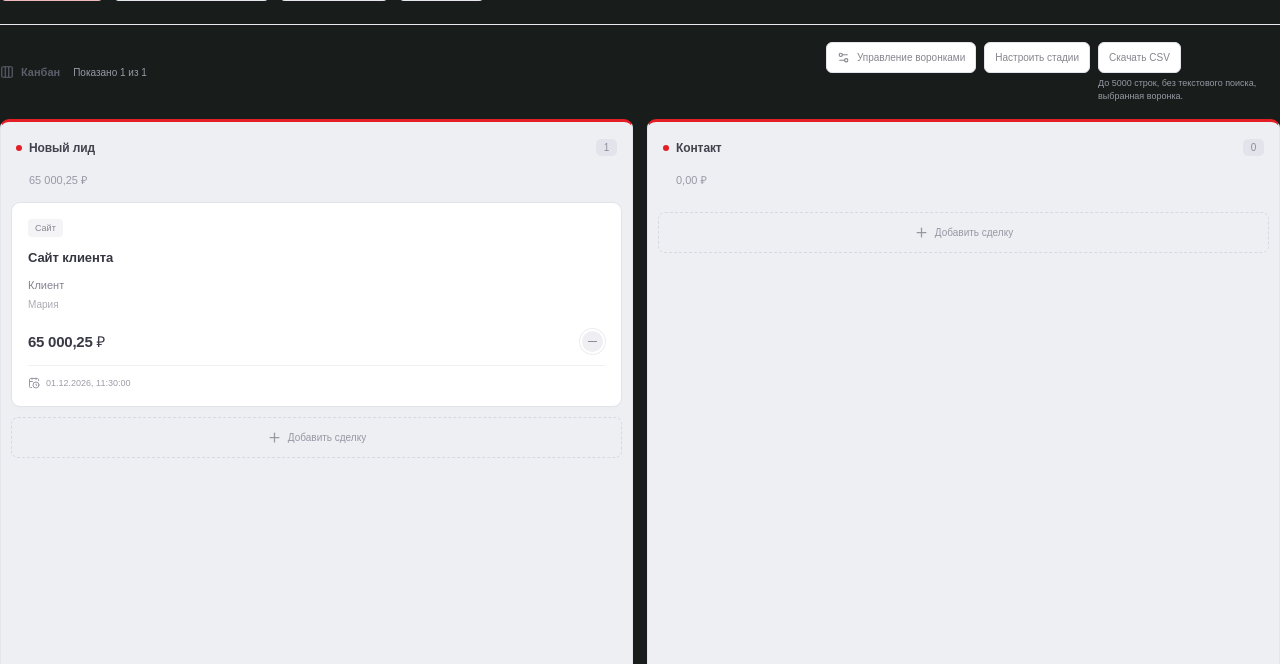
Test case: CRM persistence › keeps a note draft when saving fails
The image size is (1280, 664).
(page scrolled)
Click the element named "Открыть Сайт клиента" at (316, 305), box [11,202,622,407]
(page scrolled)
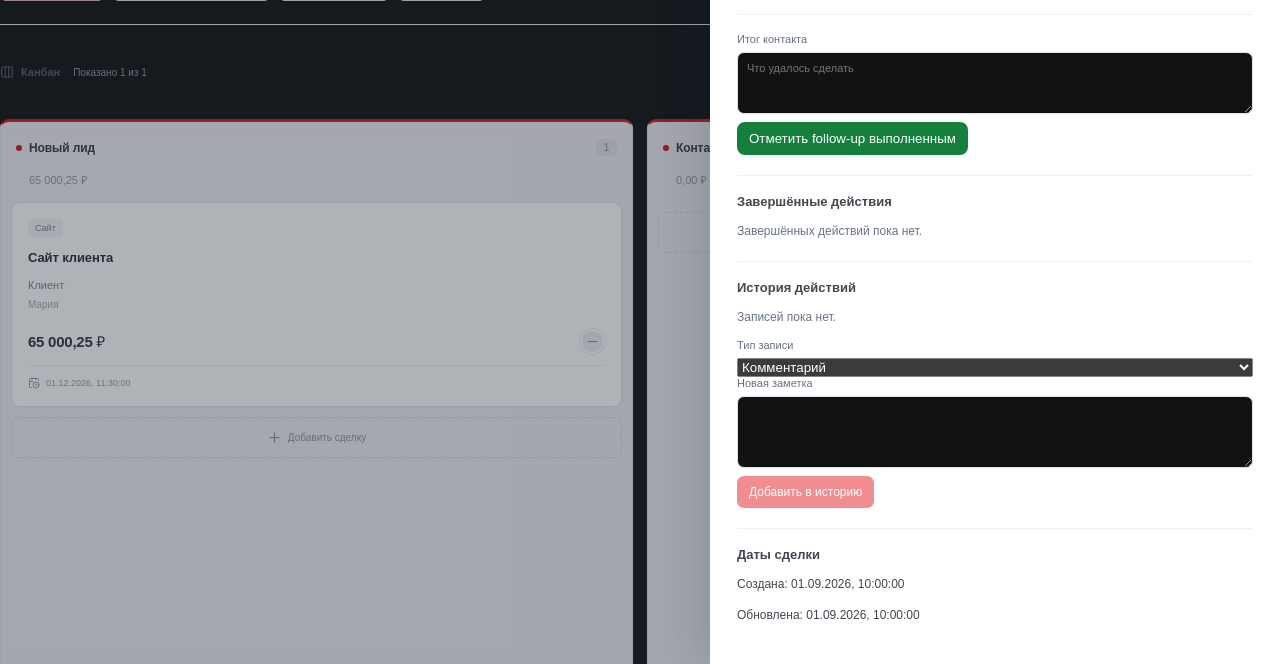
expect the text "Записей пока нет." is shown: met, box [737,310,836,324]
Type "Перезвонить завтра" into the text box labelled "Новая заметка" at (995, 432), box [737,396,1253,468]
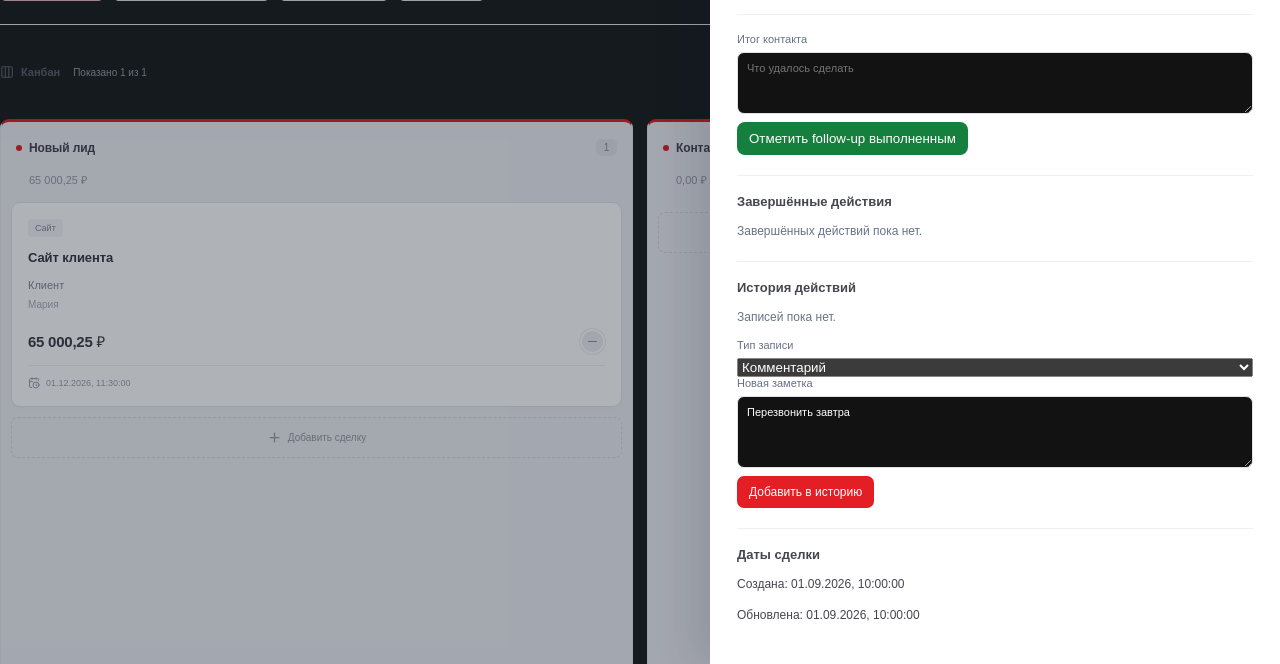
Click the button "Добавить в историю" at (806, 492), box [737,476,874,508]
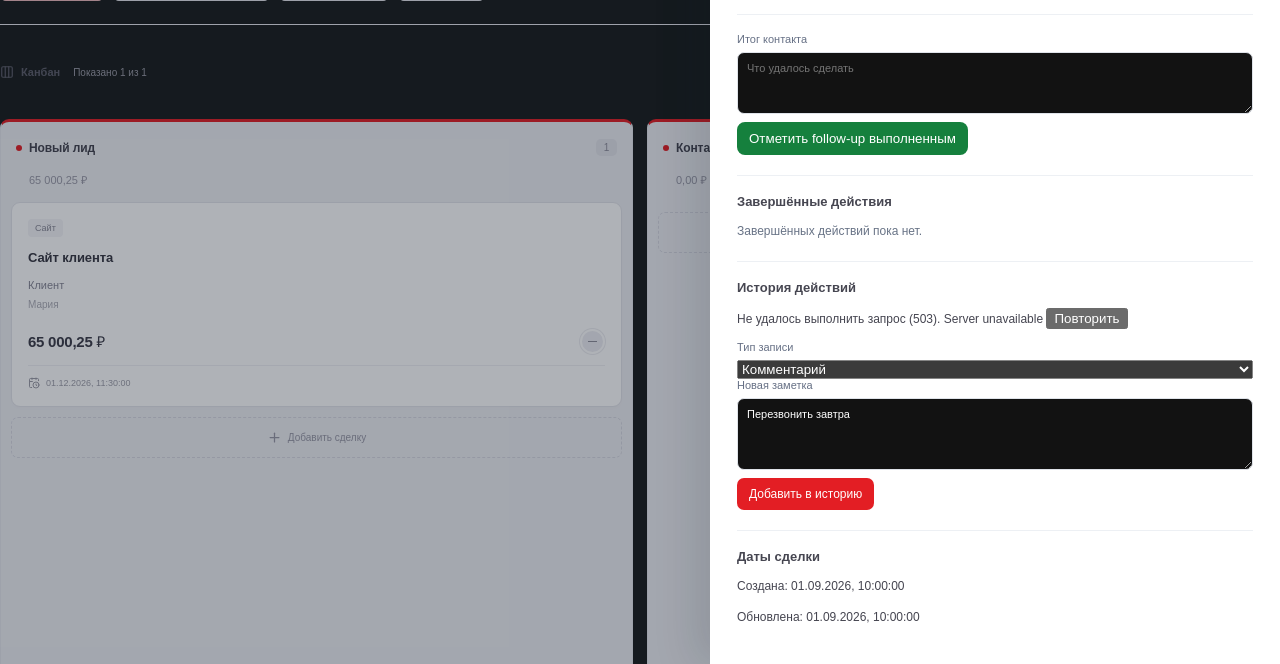
expect the message "Не удалось выполнить запрос (503). Server unavailable Повторить" is shown: met, box [737,308,1128,329]
